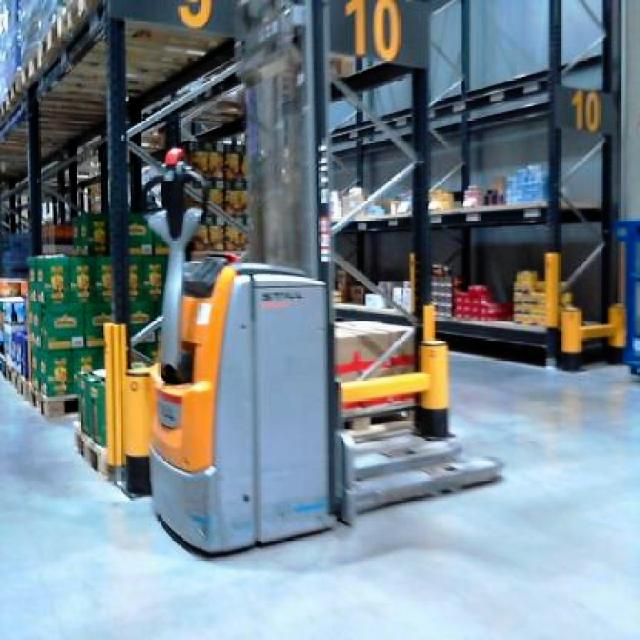ground: (0, 328, 638, 638)
pallet: (0, 209, 502, 549), (0, 251, 423, 428), (0, 209, 175, 418), (334, 248, 623, 369), (334, 369, 502, 525), (72, 320, 157, 498), (332, 314, 418, 422), (612, 214, 638, 385), (72, 366, 109, 477), (511, 251, 562, 328)
